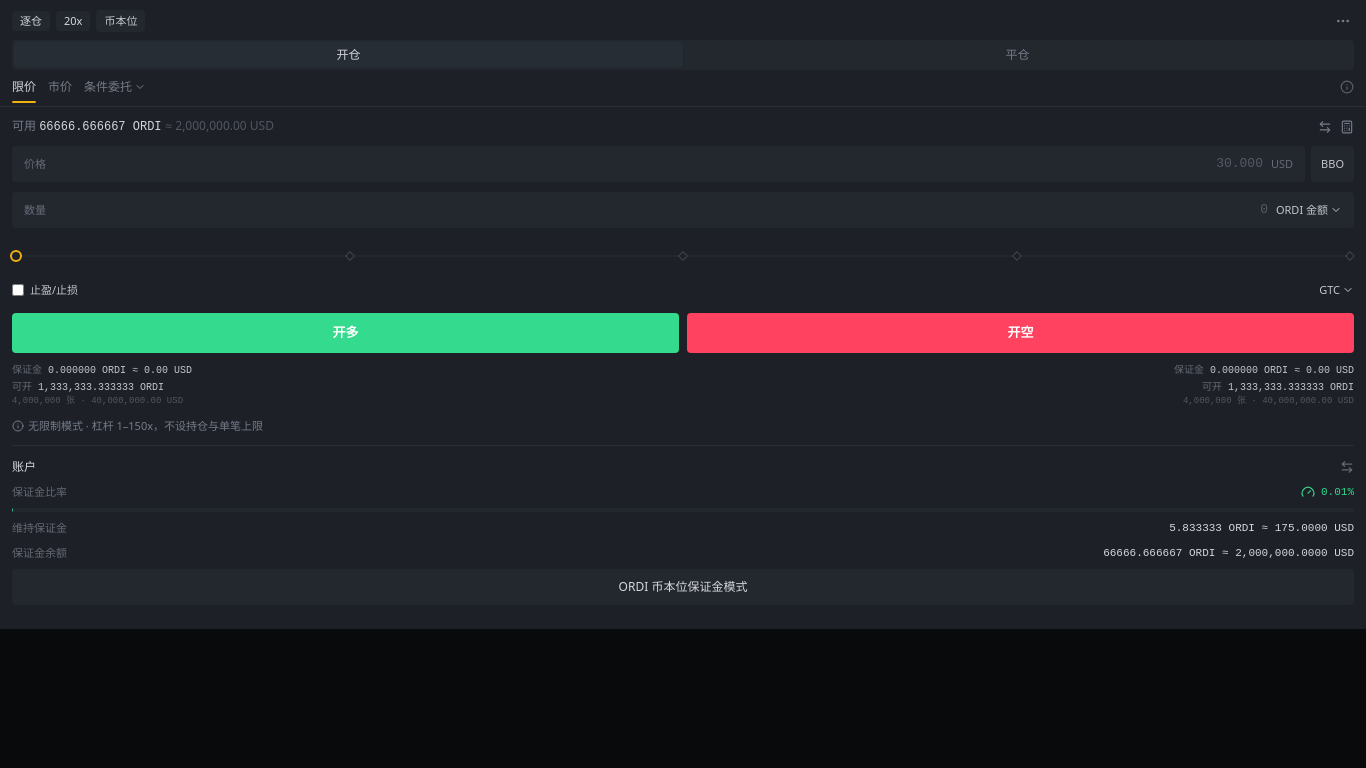
下单面板：无限制模式下加仓并进分层仓位 › ORDIUSD 已有分层多仓 1,000 张 20x：再开多 100 张——说会并进币安标准下开的仓位、整仓仍按分层，写出强平价前后
The width and height of the screenshot is (1366, 768).
Click the button "市价".
click(60, 90)  # box [48,78,72,102]
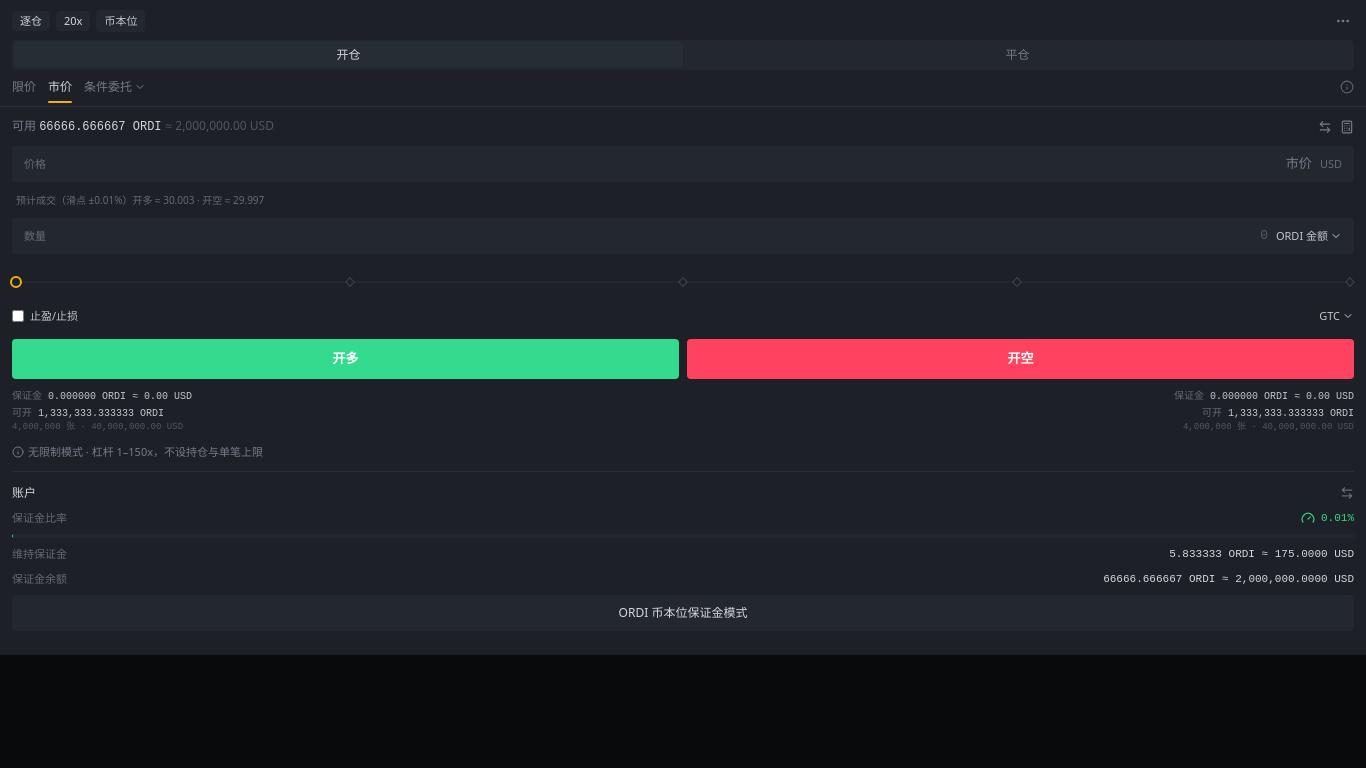
Click the button with test id "unit-preference-trigger".
click(1309, 236)  # box [1276,228,1342,244]
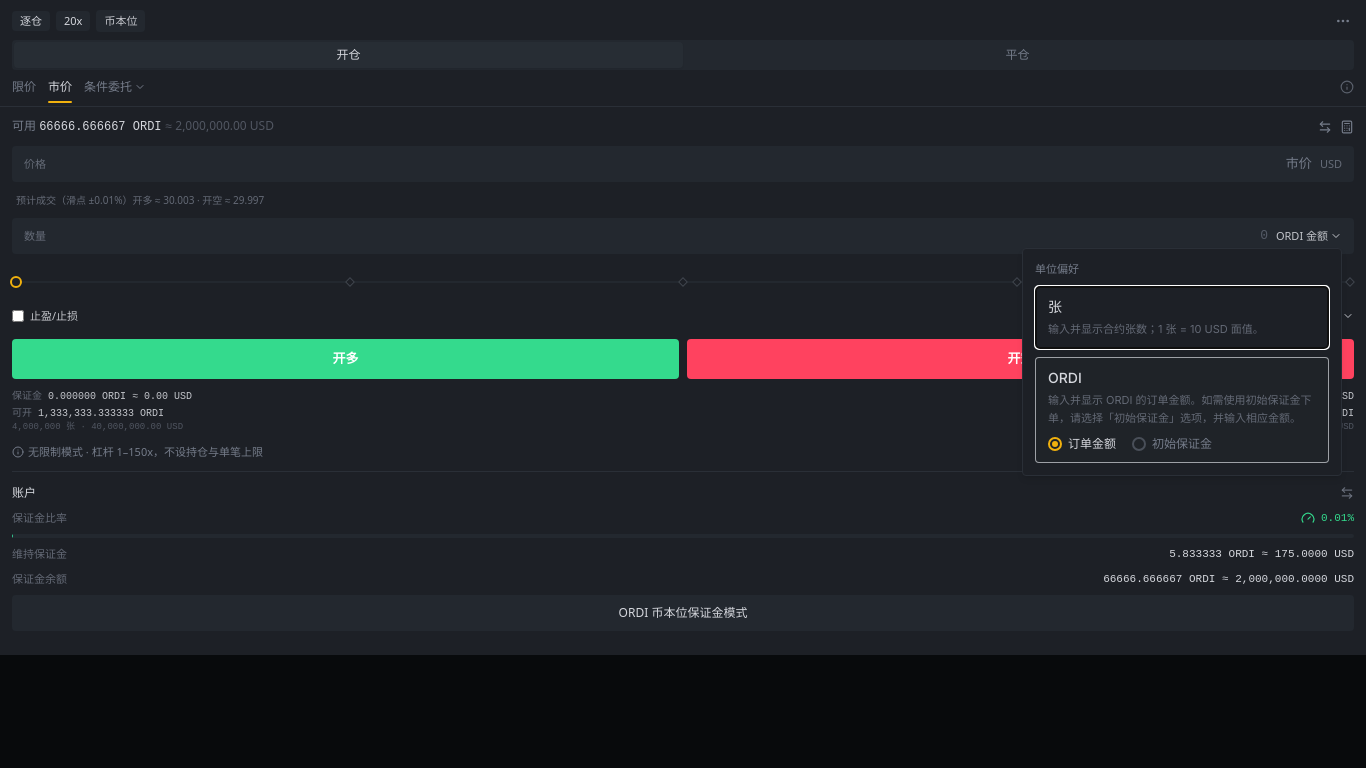
Click the button with test id "unit-card-CONTRACTS".
click(1156, 328)  # box [1035,286,1329,349]
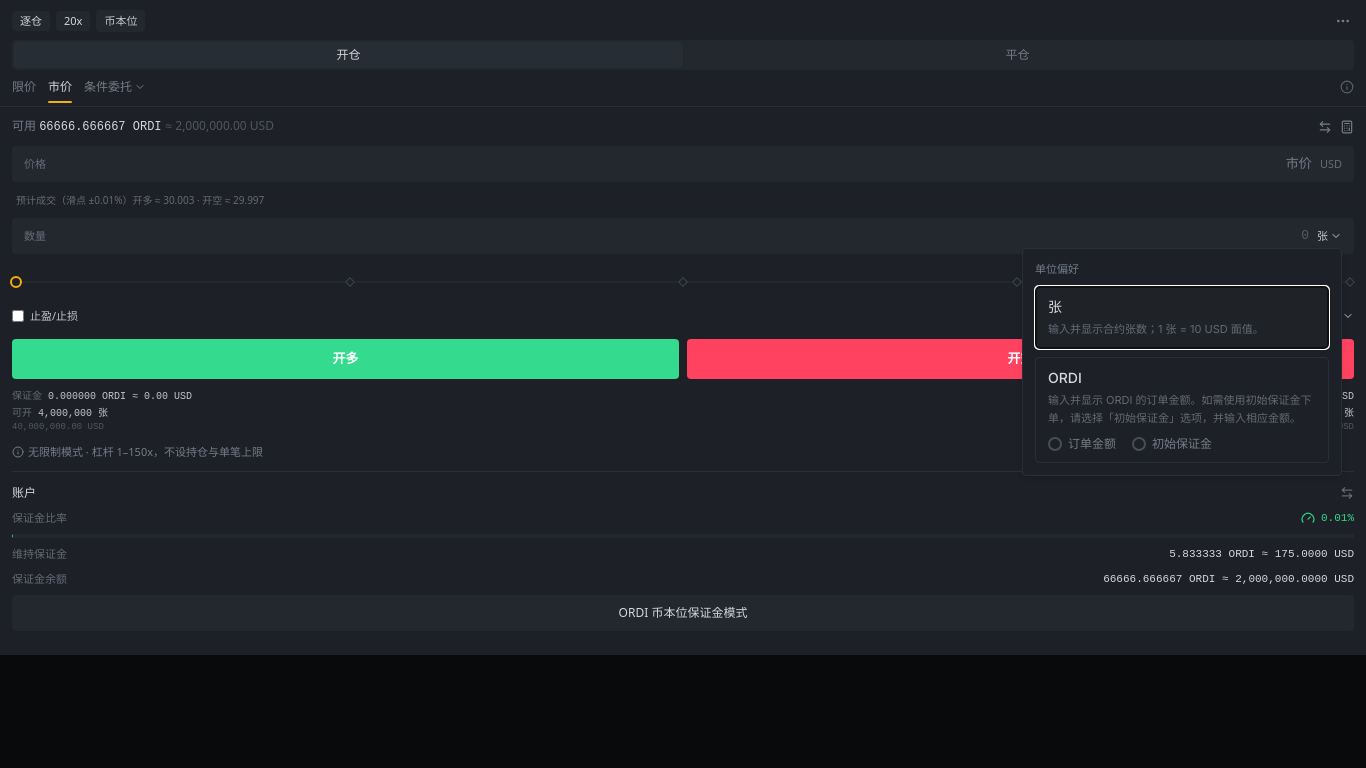
Type "100" into the field with test id "order-qty-input".
click(682, 236); type("100")  # box [54,226,1309,246]
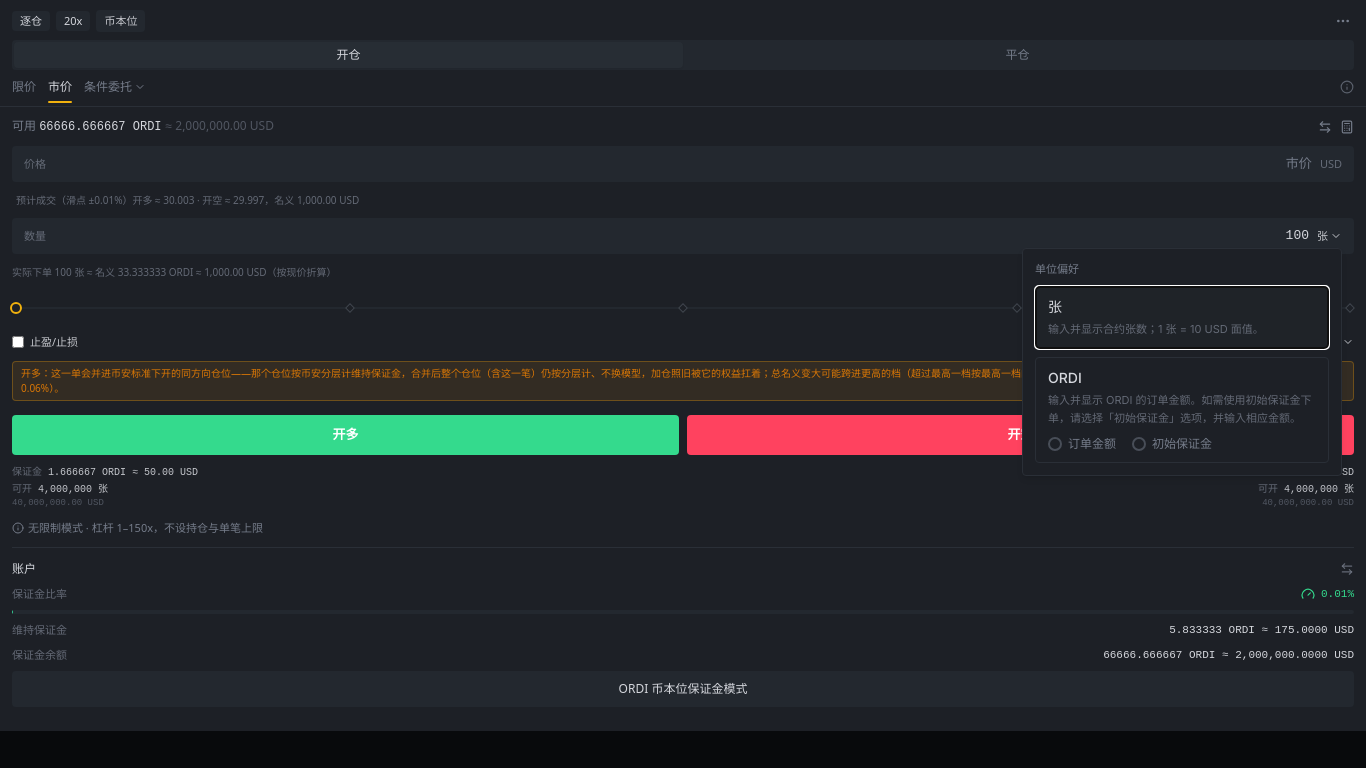
Expected: the text with test id "merge-model-note" does not show "不会并进", [12,360,1354,400]
Expected: the text with test id "merge-model-note" shows "开多：这一单会并进币安标准下开的同方向仓位——那个仓位按币安分层计维持保证金", [21,366,1338,394]
Expected: the text with test id "merge-model-note" shows "整仓强平价", [21,366,1338,394]
